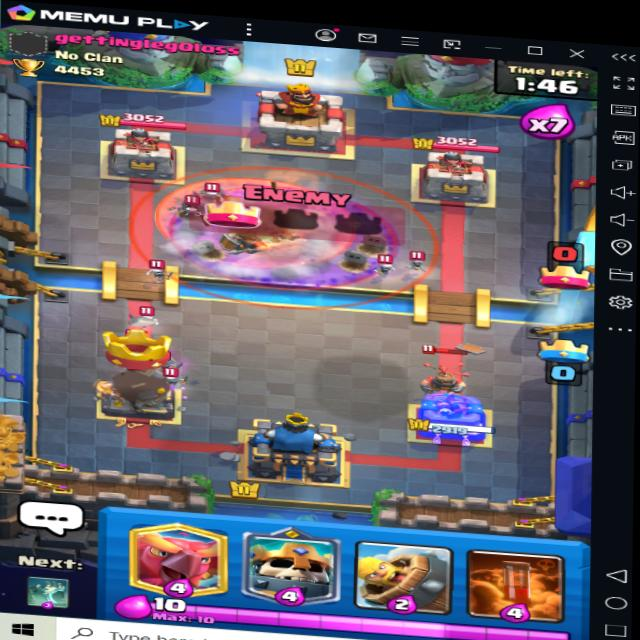Graveyard: (169, 175, 400, 298)
Poison: (159, 169, 360, 268)
Royalrecruits: (412, 348, 473, 407), (219, 217, 268, 257)
Skeleton: (152, 364, 185, 393), (191, 184, 230, 205), (177, 201, 207, 225), (408, 254, 432, 275), (373, 256, 399, 274), (139, 263, 165, 280)
